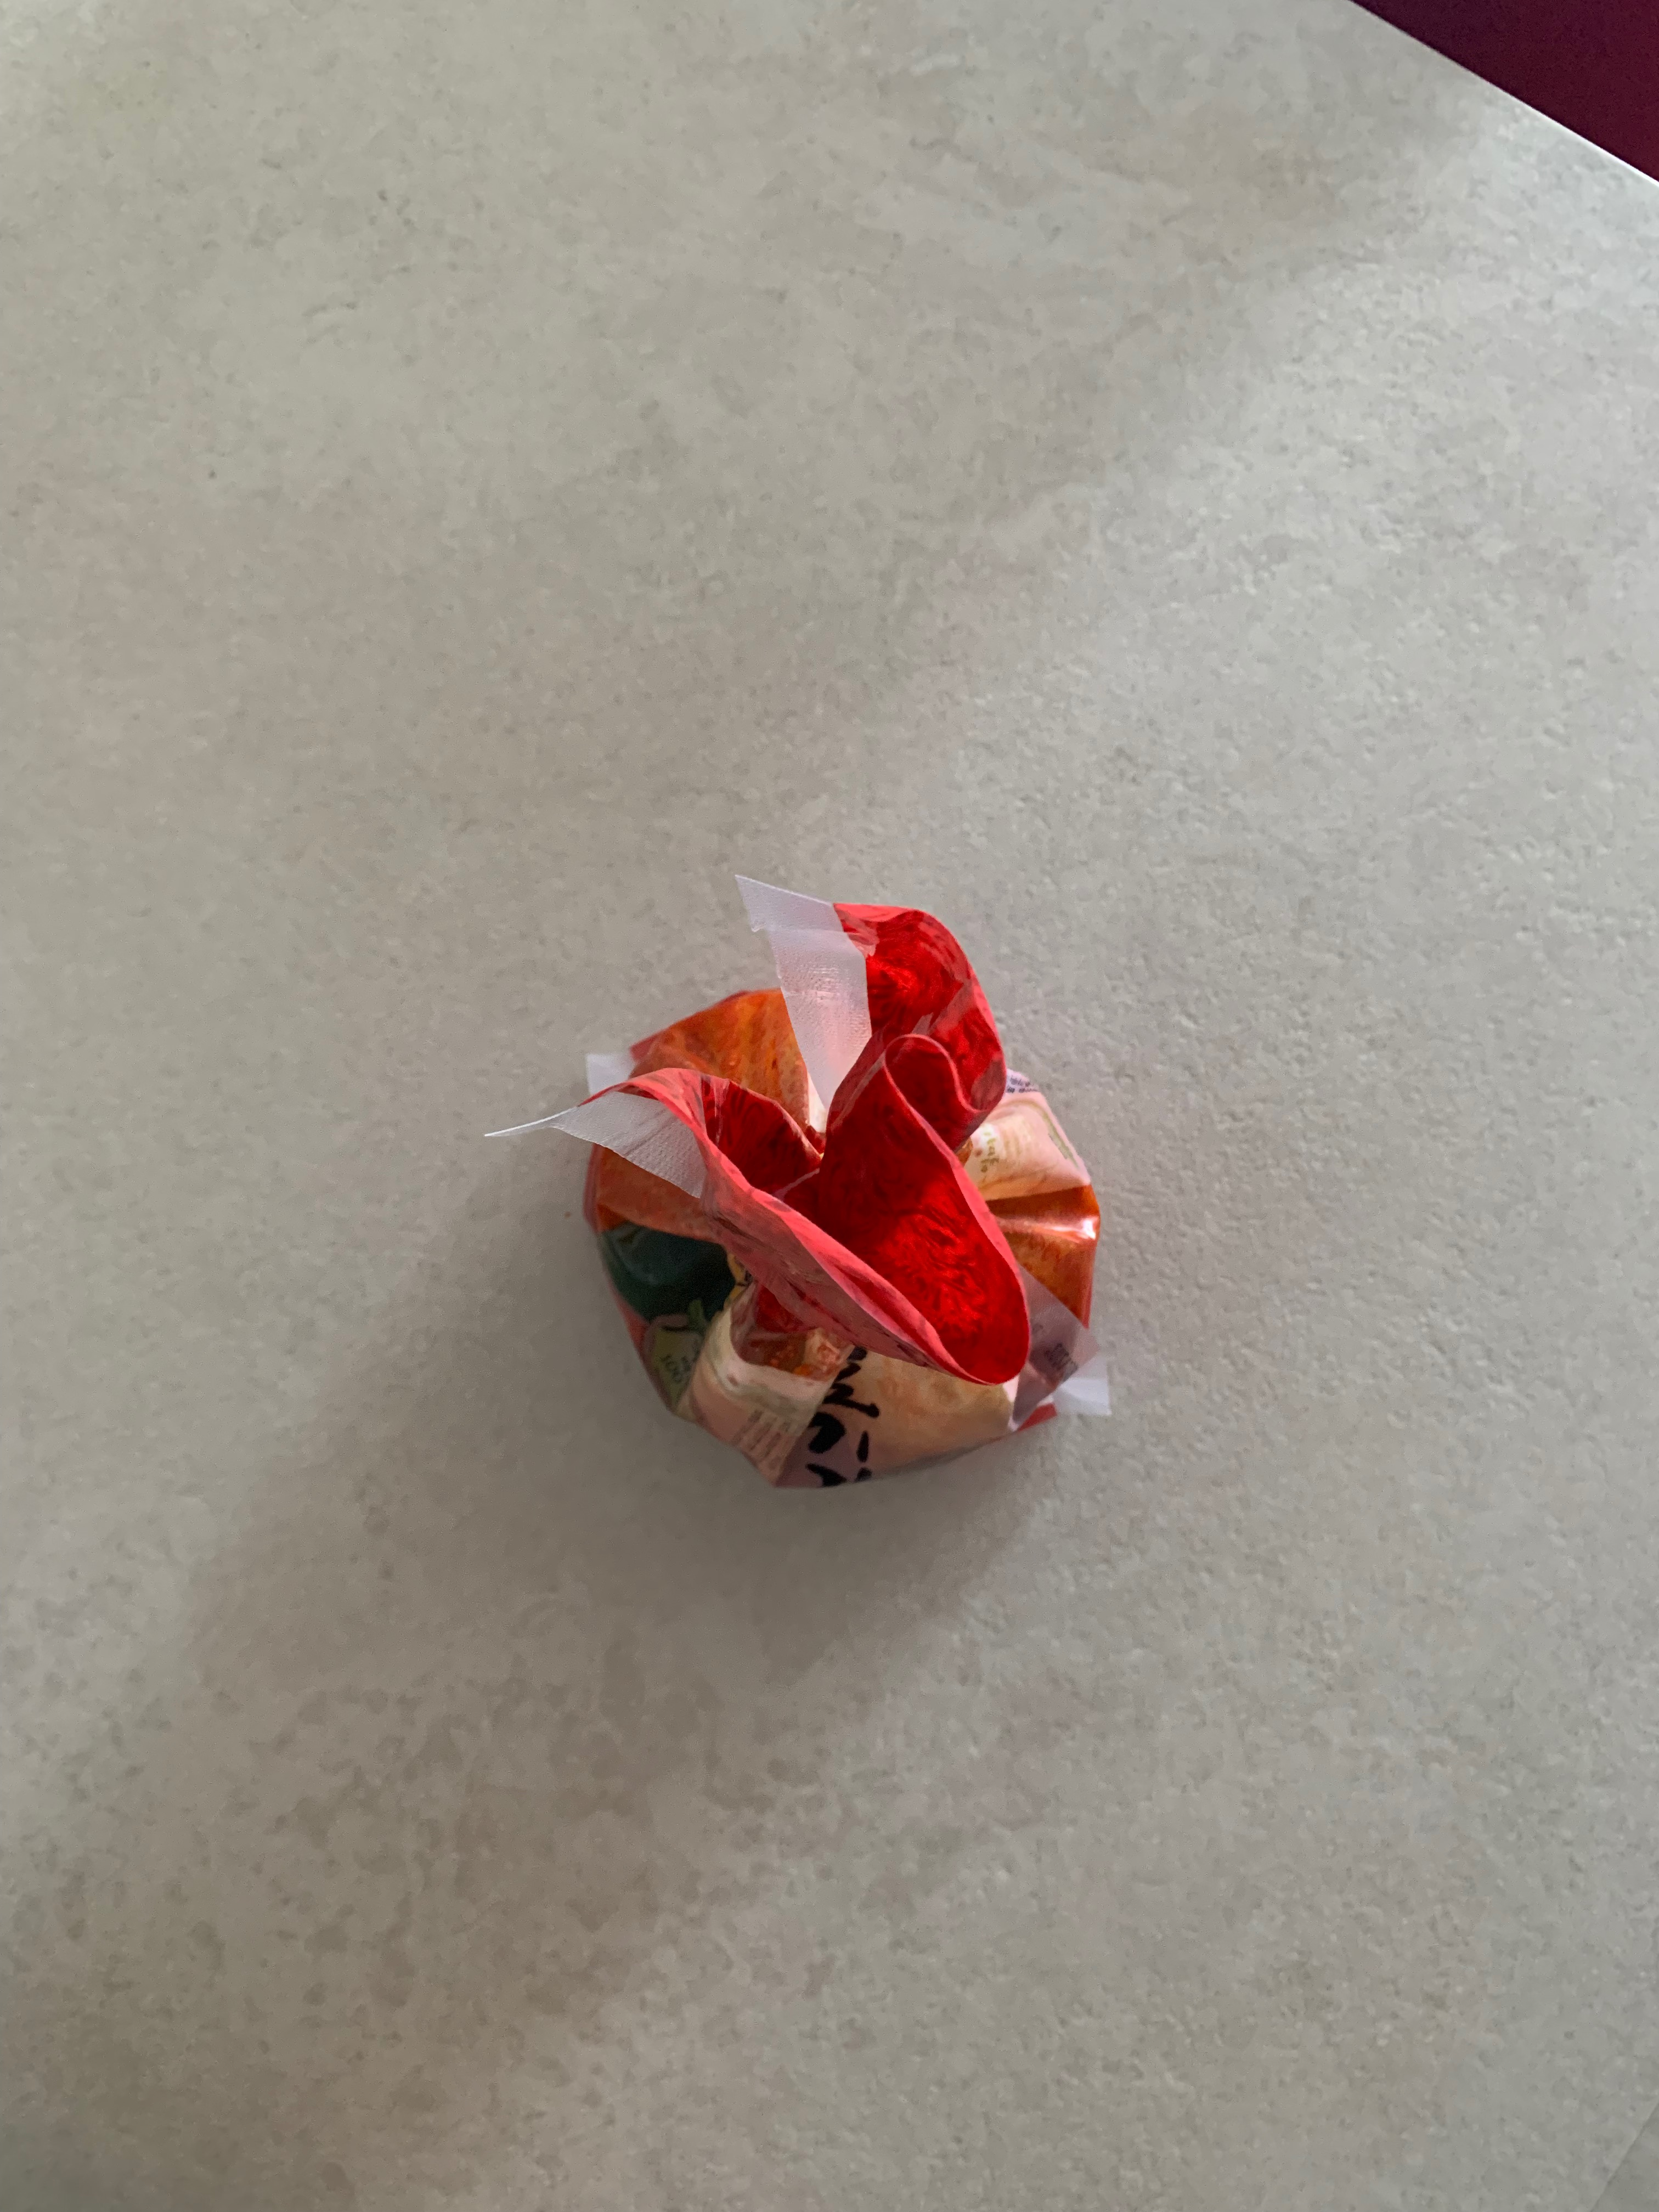kimchi: (582, 900, 1103, 1489)
